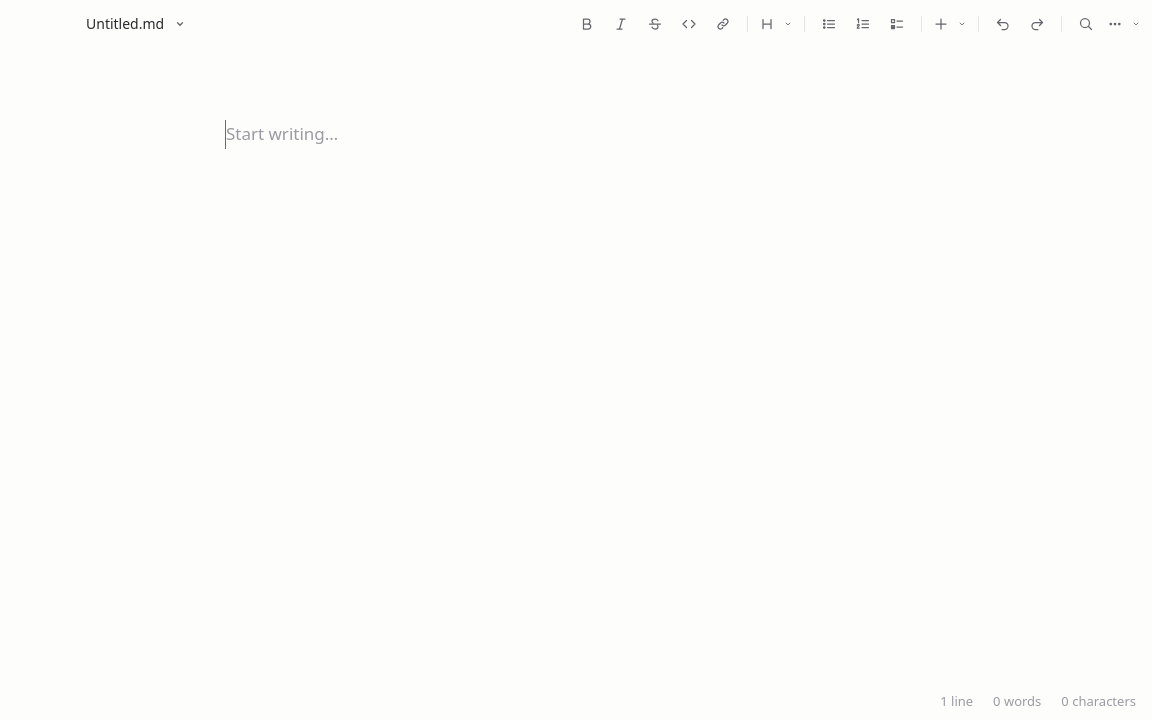
Scenario: App › shows and hides find and replace with the find tool
The width and height of the screenshot is (1152, 720).
Click the button named "Find and replace": (1086, 24) [1070,8,1102,40]
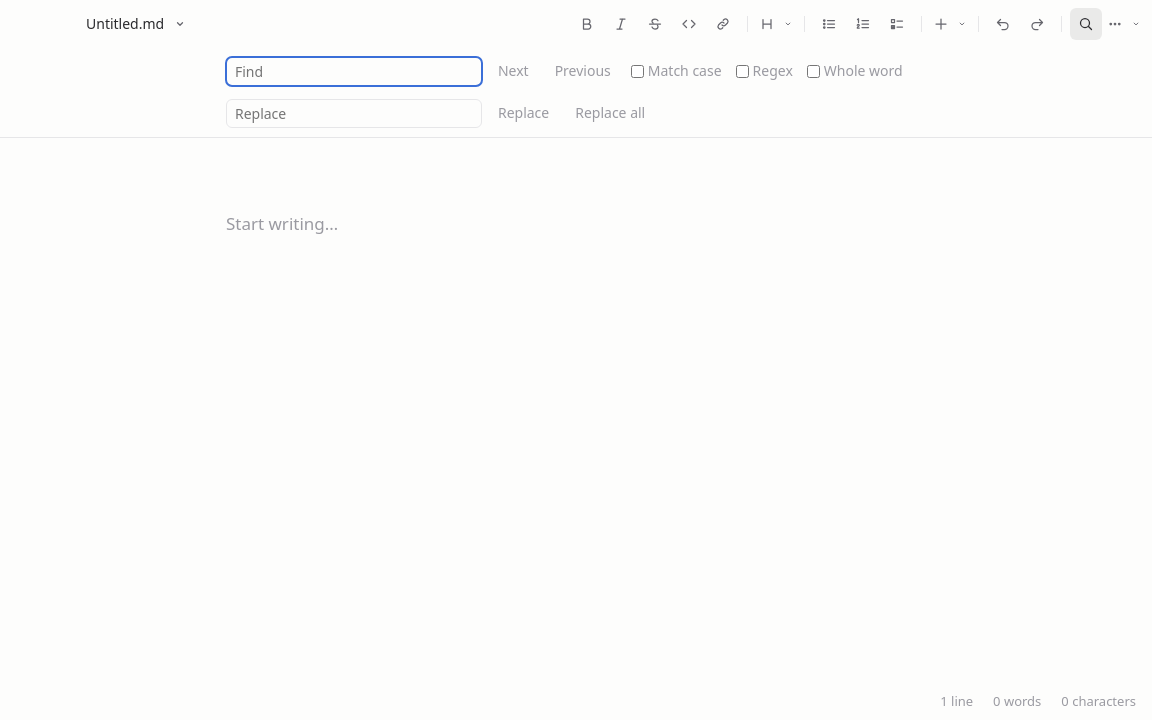
Expected: the field labelled "Find" is shown, [226,57,482,86]
Click the button named "Find and replace": (1086, 24) [1070,8,1102,40]
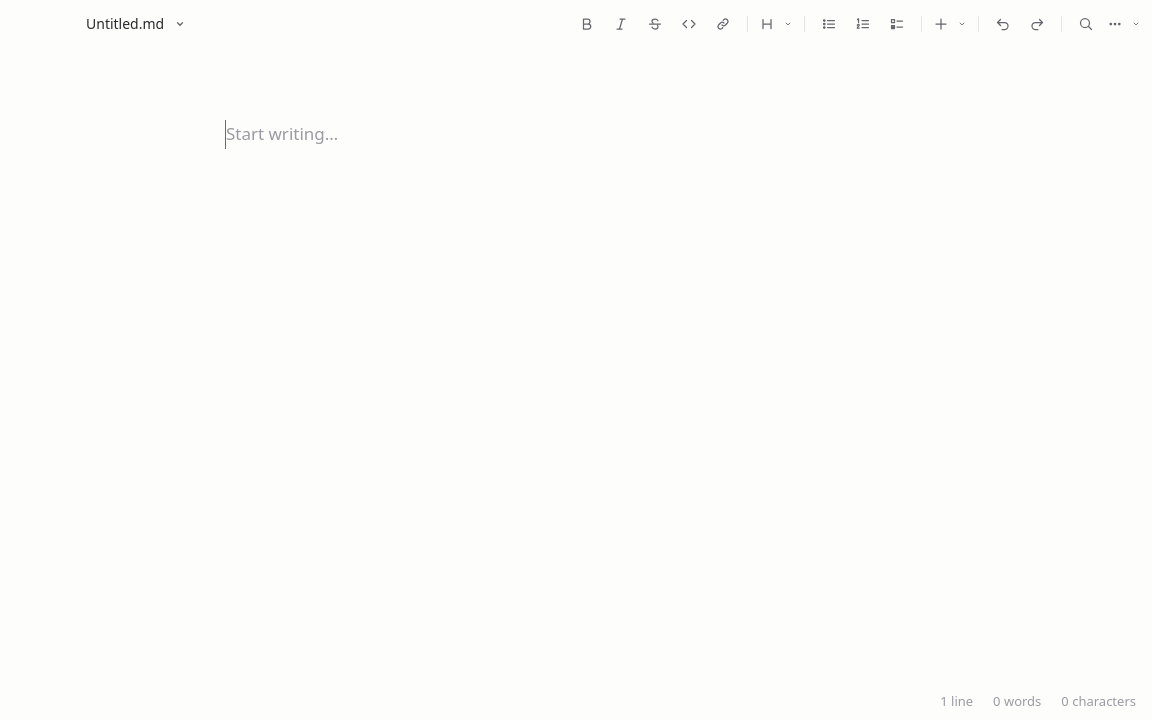
Expected: the field labelled "Find" is gone
